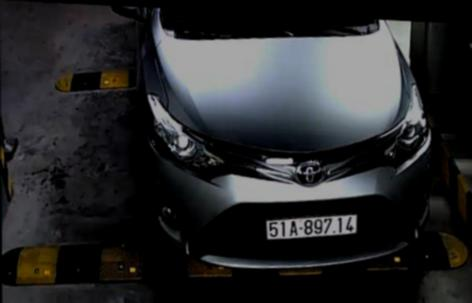License_Plate: (265, 206, 361, 245)
